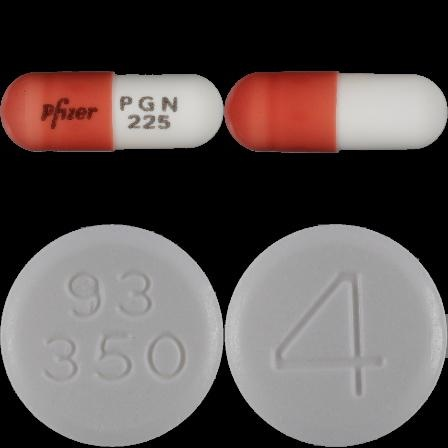42254-134: (0, 0, 224, 224)
